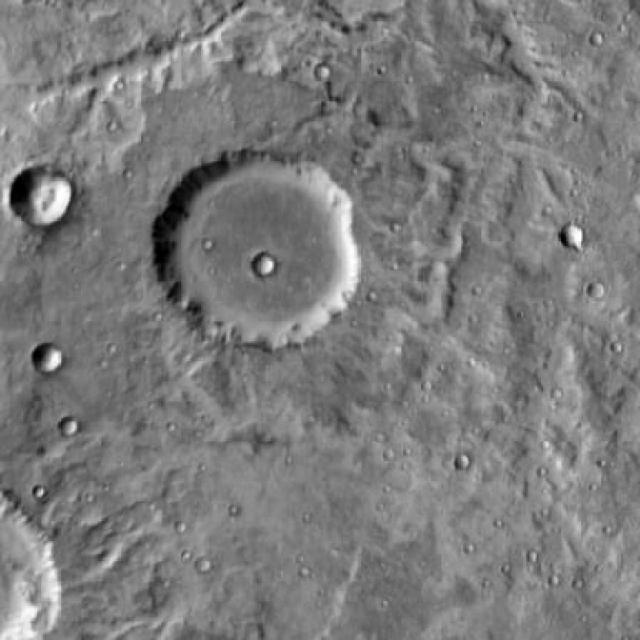crater: (159, 148, 366, 352), (8, 169, 72, 231), (33, 347, 61, 375), (560, 226, 586, 252), (253, 255, 275, 276), (582, 277, 598, 294), (45, 406, 61, 422), (312, 61, 328, 77), (192, 555, 208, 571)
